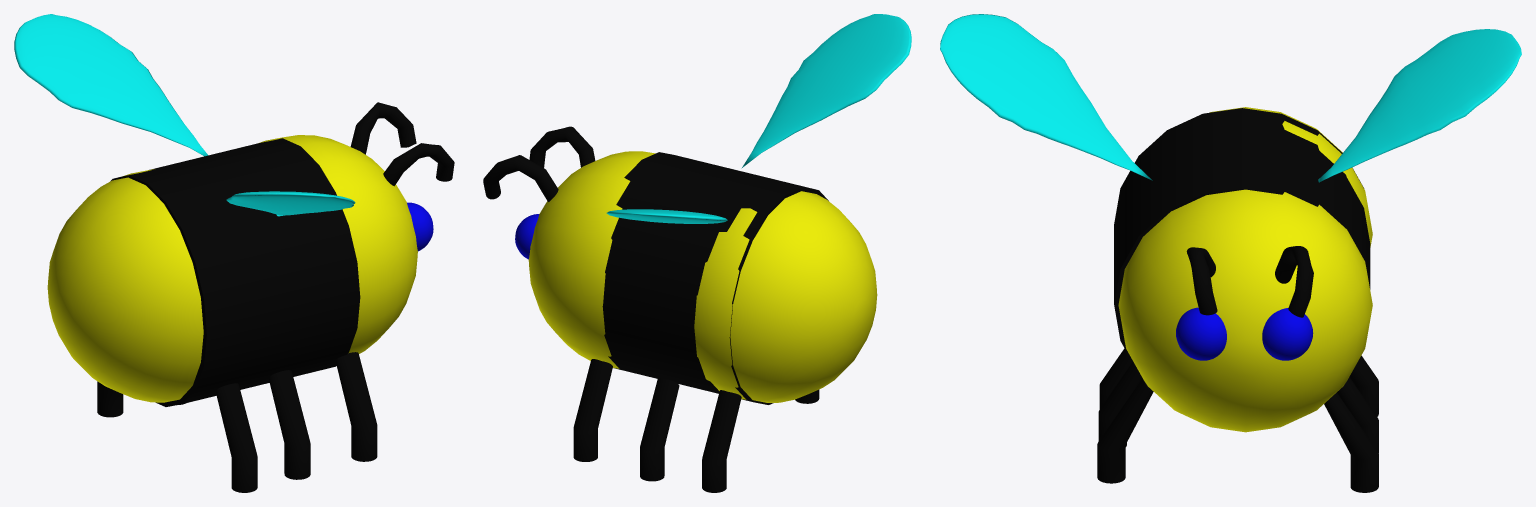
File: Bee.fbx
3 renders of one model, left to right at view 1: azimuth 30°, elevation 25°; view 2: azimuth 150°, elevation 25°; view 3: azimuth 270°, elevation 25°, orthographic. The views are drawn at different scales.
Visible parts, largest first — view 1: pCylinder2, pSphere3, pCylinder4, pCylinder3, pCylinder5, pSphere4, pCylinder9, pCylinder10, pSphere5, pCylinder7; view 2: pCylinder2, pSphere4, pCylinder8, pCylinder6, pCylinder7, pCylinder9, pSphere3, pCylinder10, pSphere6; view 3: pCylinder2, pSphere4, pSphere3, pCylinder5, pCylinder6, pSphere5, pSphere6, pCylinder9, pCylinder10, pCylinder4, pCylinder8, pCylinder7 (+1 smaller).
Part boxes in pixels (box(x1,y1,x2,y2)): pCylinder2: box(47, 135, 417, 406); pSphere3: box(14, 14, 208, 156); pCylinder4: box(268, 370, 310, 479); pCylinder3: box(215, 383, 257, 492); pCylinder5: box(335, 352, 377, 461); pSphere4: box(226, 191, 355, 216); pCylinder9: box(350, 102, 416, 154); pCylinder10: box(383, 143, 454, 186); pSphere5: box(407, 202, 433, 251); pCylinder7: box(97, 381, 123, 417); pCylinder2: box(528, 151, 877, 404); pSphere4: box(741, 14, 911, 168); pCylinder8: box(640, 378, 679, 481); pCylinder6: box(573, 359, 612, 461); pCylinder7: box(702, 390, 741, 492); pCylinder9: box(483, 155, 558, 201); pSphere3: box(606, 209, 727, 223); pCylinder10: box(529, 126, 595, 167); pSphere6: box(515, 214, 539, 259); pCylinder2: box(1114, 107, 1372, 432); pSphere4: box(940, 14, 1152, 180); pSphere3: box(1318, 29, 1521, 182); pCylinder5: box(1097, 378, 1153, 483); pCylinder6: box(1324, 392, 1378, 492); pSphere5: box(1176, 307, 1226, 360); pSphere6: box(1262, 308, 1313, 360); pCylinder9: box(1275, 246, 1313, 317); pCylinder10: box(1186, 247, 1217, 315); pCylinder4: box(1098, 362, 1142, 446); pCylinder8: box(1337, 377, 1378, 452); pCylinder7: box(1349, 355, 1378, 416).
Size of the model in its own units: 0.5894 by 0.5454 by 0.7323.
